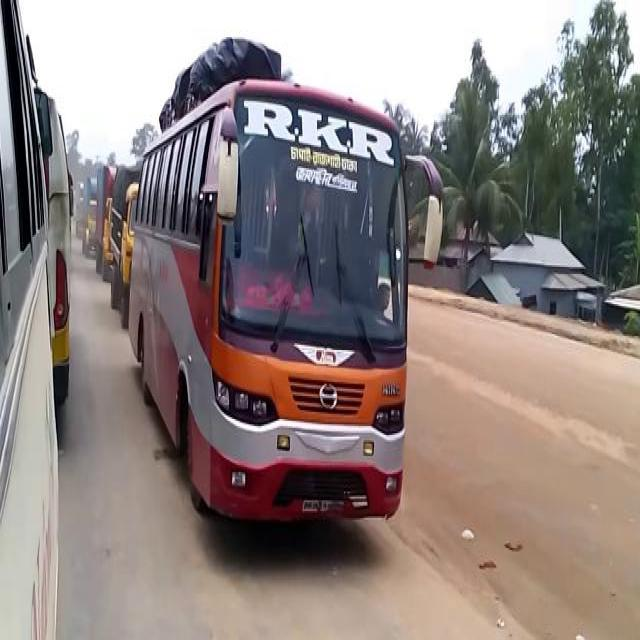bus: (123, 30, 414, 523), (1, 0, 56, 635), (32, 78, 73, 406)
truck: (107, 159, 138, 329), (94, 159, 112, 278), (82, 172, 96, 256)
